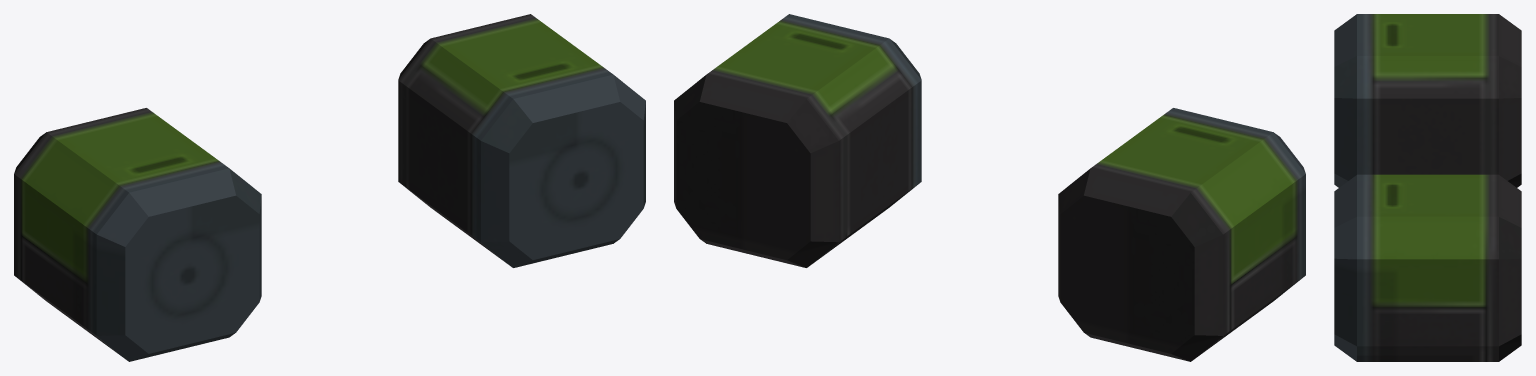
Rendered from Mod-B_blue.FBX.
The picture shows the model from 3 angles, left to right: view 1: azimuth 30°, elevation 25°; view 2: azimuth 150°, elevation 25°; view 3: azimuth 270°, elevation 25°; orthographic projection. The views are drawn at different scales.
Visible parts, largest first — view 1: Mod-B_Left, Mod-B_Right; view 2: Mod-B_Left, Mod-B_Right; view 3: Mod-B_Left, Mod-B_Right.
Part boxes in pixels (bbox=[...]): Mod-B_Left: bbox=[398, 14, 645, 267]; Mod-B_Right: bbox=[14, 108, 261, 361]; Mod-B_Left: bbox=[674, 14, 921, 267]; Mod-B_Right: bbox=[1058, 108, 1305, 361]; Mod-B_Left: bbox=[1334, 174, 1521, 361]; Mod-B_Right: bbox=[1334, 14, 1521, 187].
Size of the model in its own units: 2908 by 1000 by 856.
